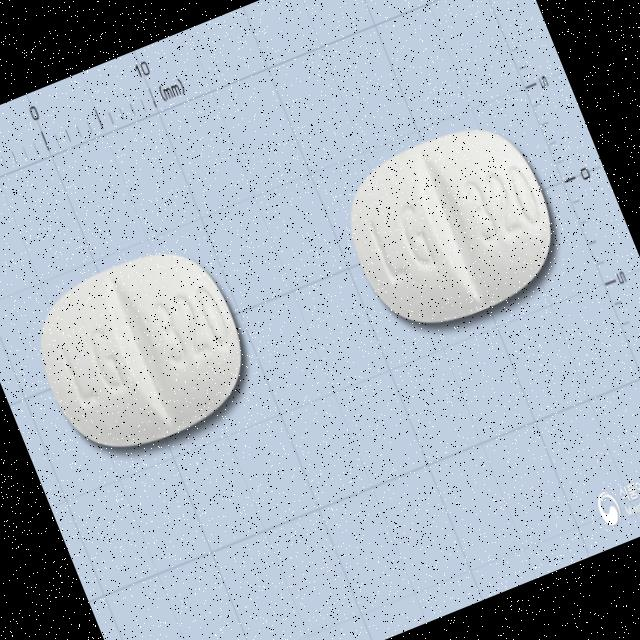Factive: (326, 105, 574, 347), (16, 230, 265, 470)
